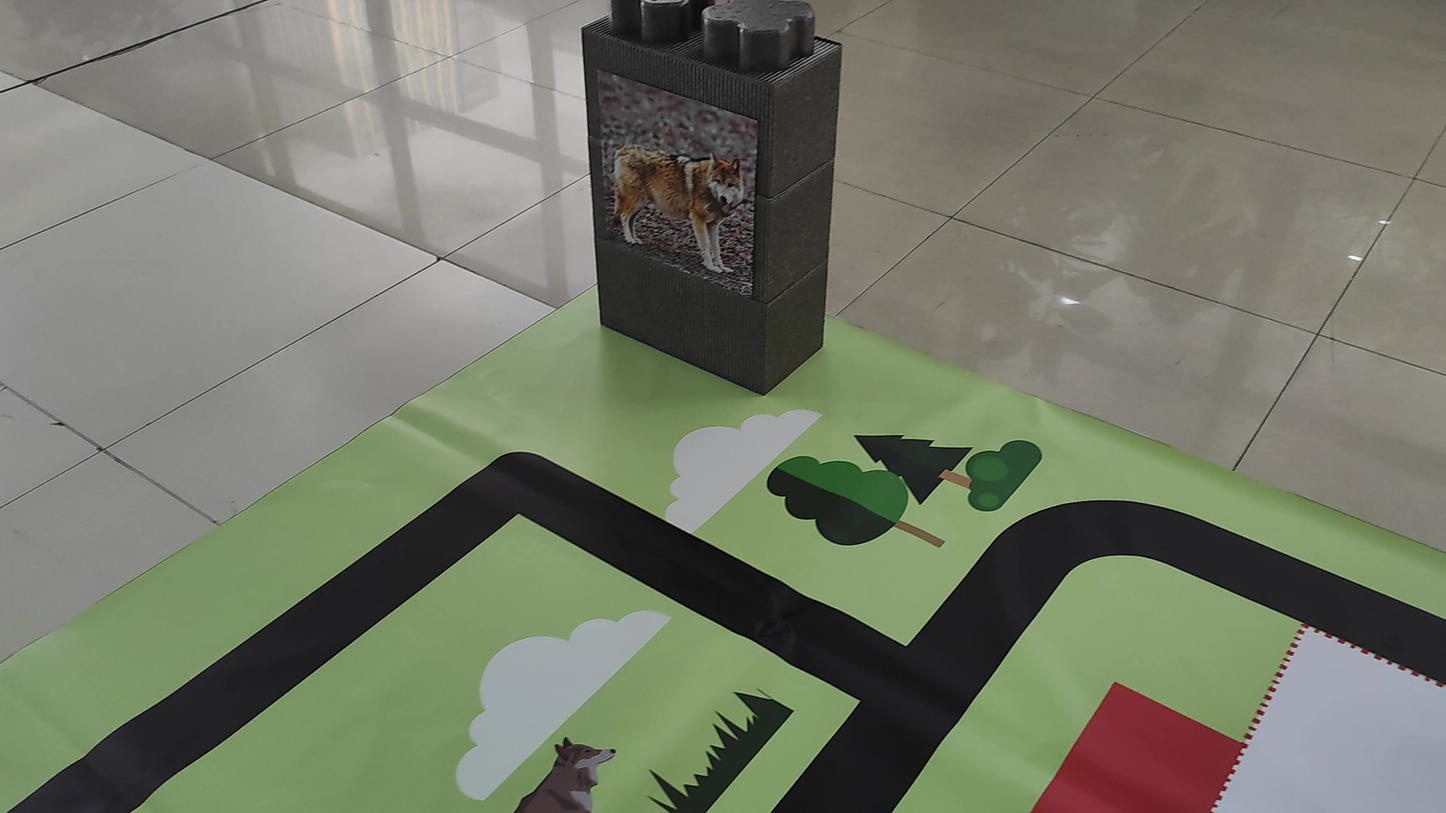wolf: (596, 103, 763, 283)
